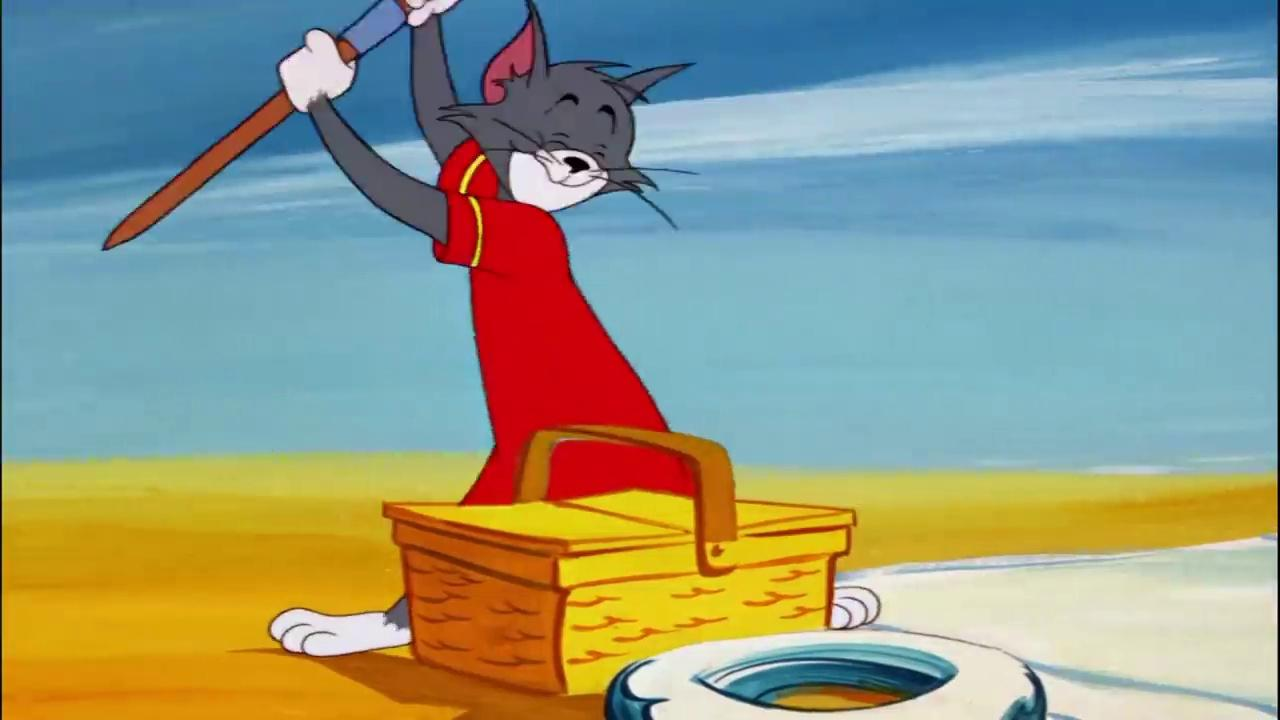Tom: (266, 0, 882, 655)
